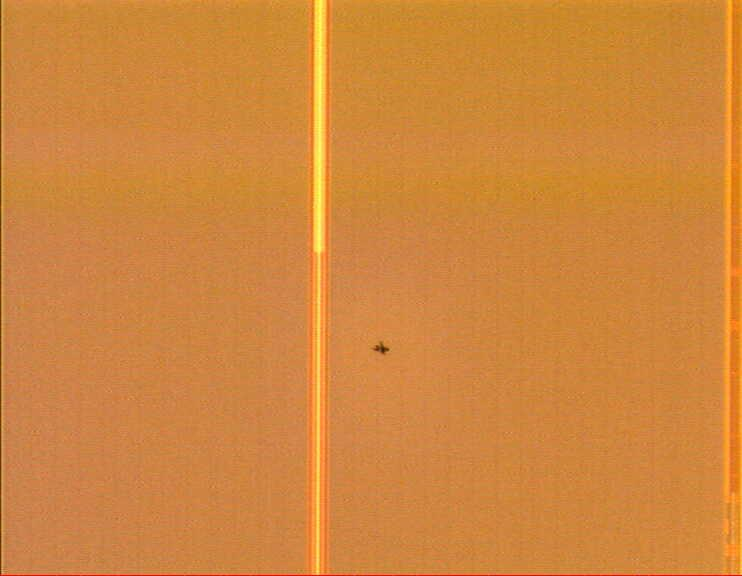PIQ PARTICLE: (370, 338, 393, 361)
